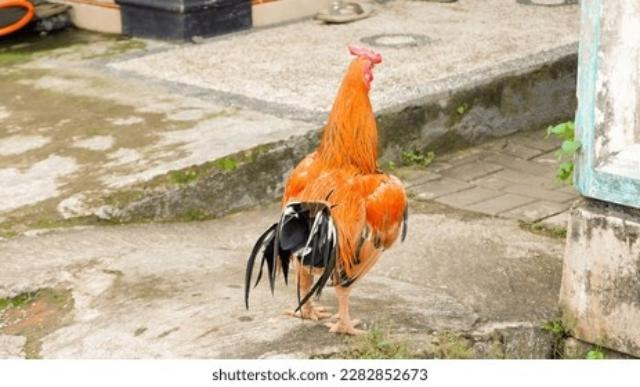Chicken: (246, 40, 409, 338)
